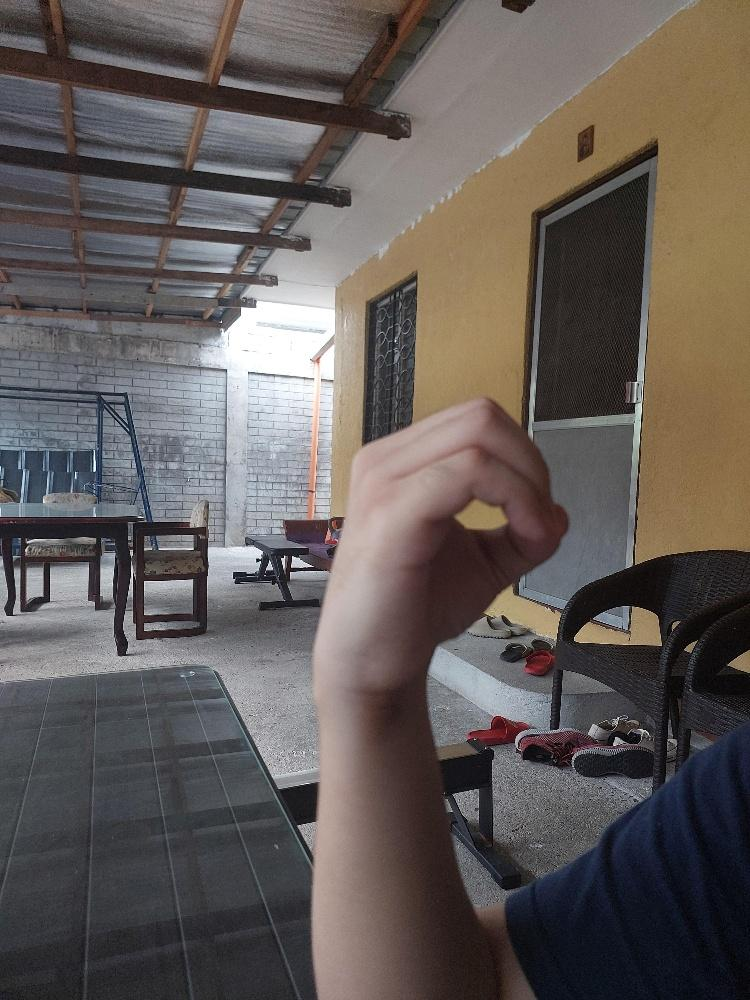o: (308, 390, 571, 694)
